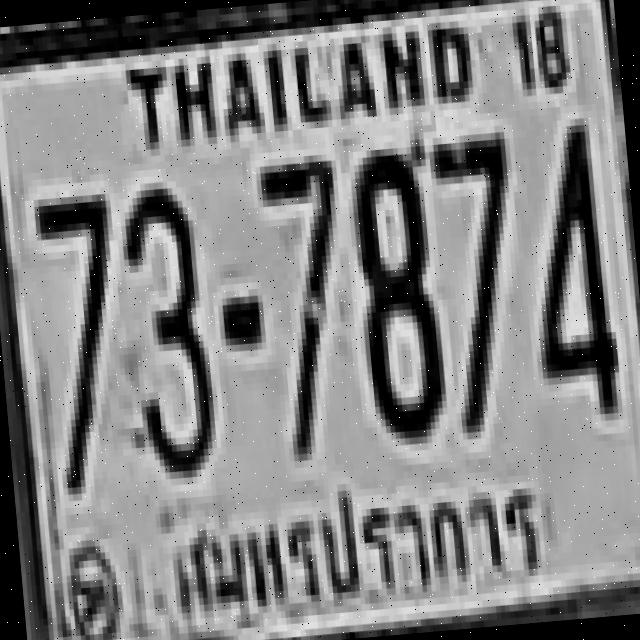3: (115, 180, 216, 474)
4: (516, 118, 617, 412)
7: (256, 153, 354, 455), (31, 186, 128, 488), (428, 128, 524, 430), (254, 154, 348, 415), (31, 187, 120, 401), (428, 129, 517, 343), (254, 154, 344, 361)
8: (343, 139, 444, 434)
SamutPrakan: (154, 471, 558, 637)
